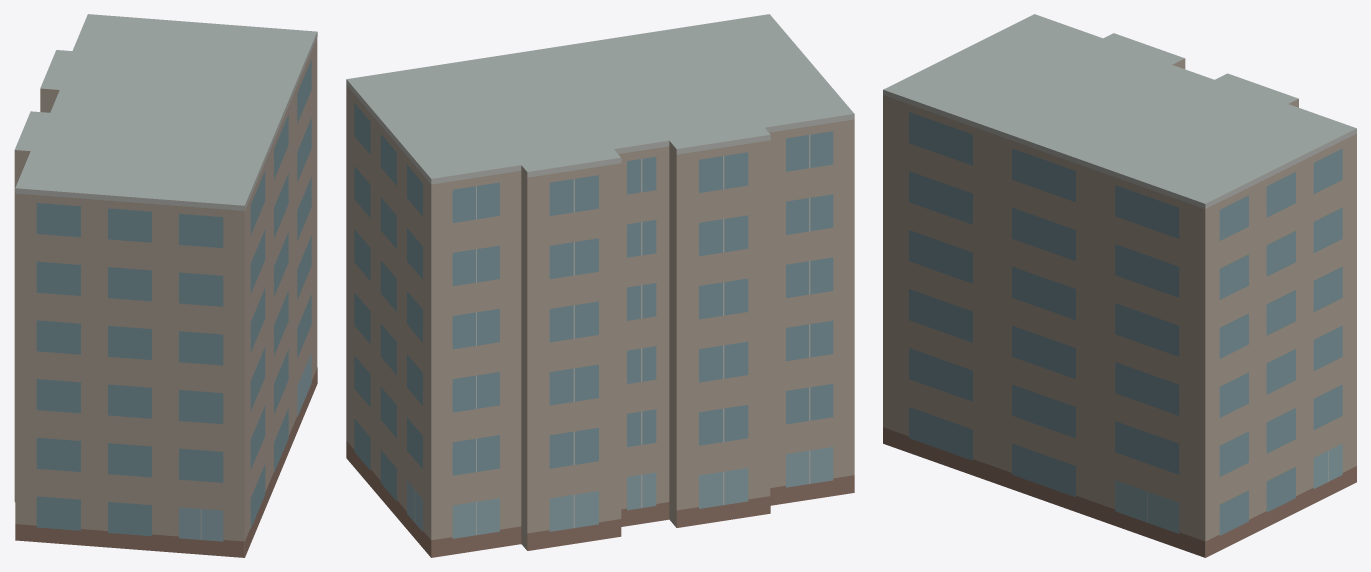
Rendered from survey-upis-32917976.glb.
3 views of the same model, side by side, from view 1: azimuth 30°, elevation 25°; view 2: azimuth 150°, elevation 25°; view 3: azimuth 270°, elevation 25° (orthographic). The views are drawn at different scales.
Parts seen in each view (by area): view 1: survey-upis-32917976.tmp; view 2: survey-upis-32917976.tmp; view 3: survey-upis-32917976.tmp.
Part boxes in pixels (x1,y1,x2,y2): survey-upis-32917976.tmp: (14, 14, 317, 557); survey-upis-32917976.tmp: (346, 14, 854, 557); survey-upis-32917976.tmp: (883, 14, 1356, 557).
Bounding box in the file's own units: 19.11 × 16.6 × 20.15.
